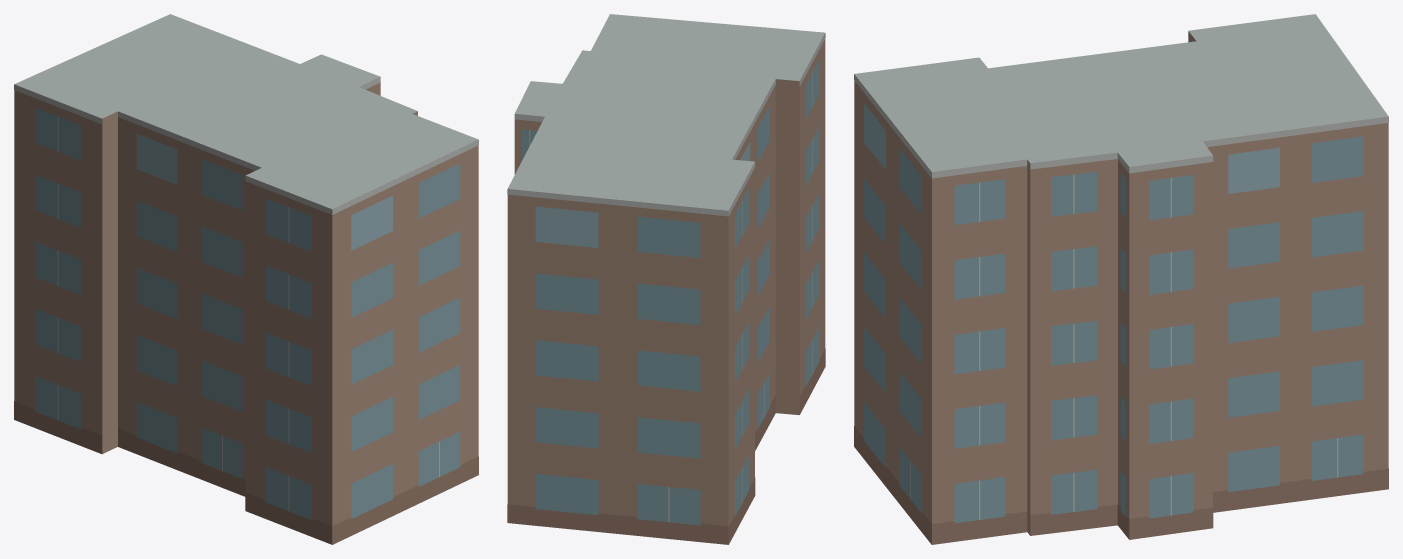
File: survey-upis-32766113.glb
The picture shows the model from 3 angles, left to right: view 1: azimuth 30°, elevation 25°; view 2: azimuth 150°, elevation 25°; view 3: azimuth 270°, elevation 25°; orthographic projection. The views are drawn at different scales.
Visible parts, largest first — view 1: survey-upis-32766113.tmp; view 2: survey-upis-32766113.tmp; view 3: survey-upis-32766113.tmp.
Part boxes in pixels (<box>): survey-upis-32766113.tmp: <box>14,14,478,544</box>; survey-upis-32766113.tmp: <box>507,14,825,544</box>; survey-upis-32766113.tmp: <box>854,14,1388,544</box>.
Bounding box in the file's own units: 13.17 × 14.45 × 18.8.
